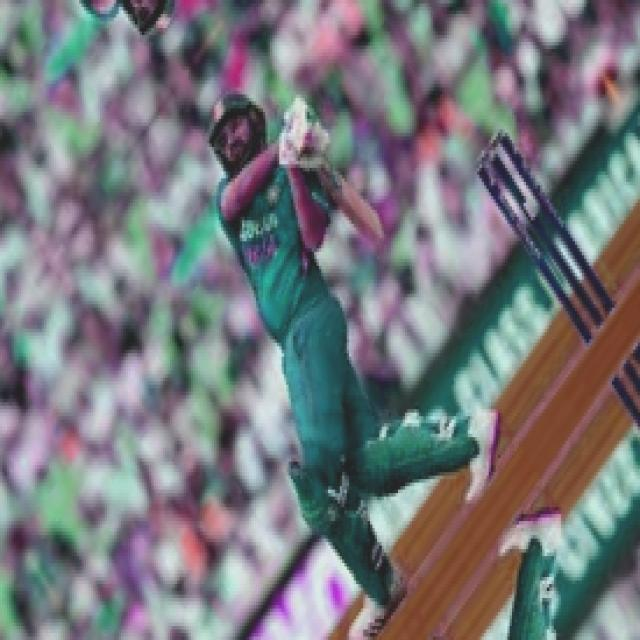toe: (362, 208, 382, 245)
